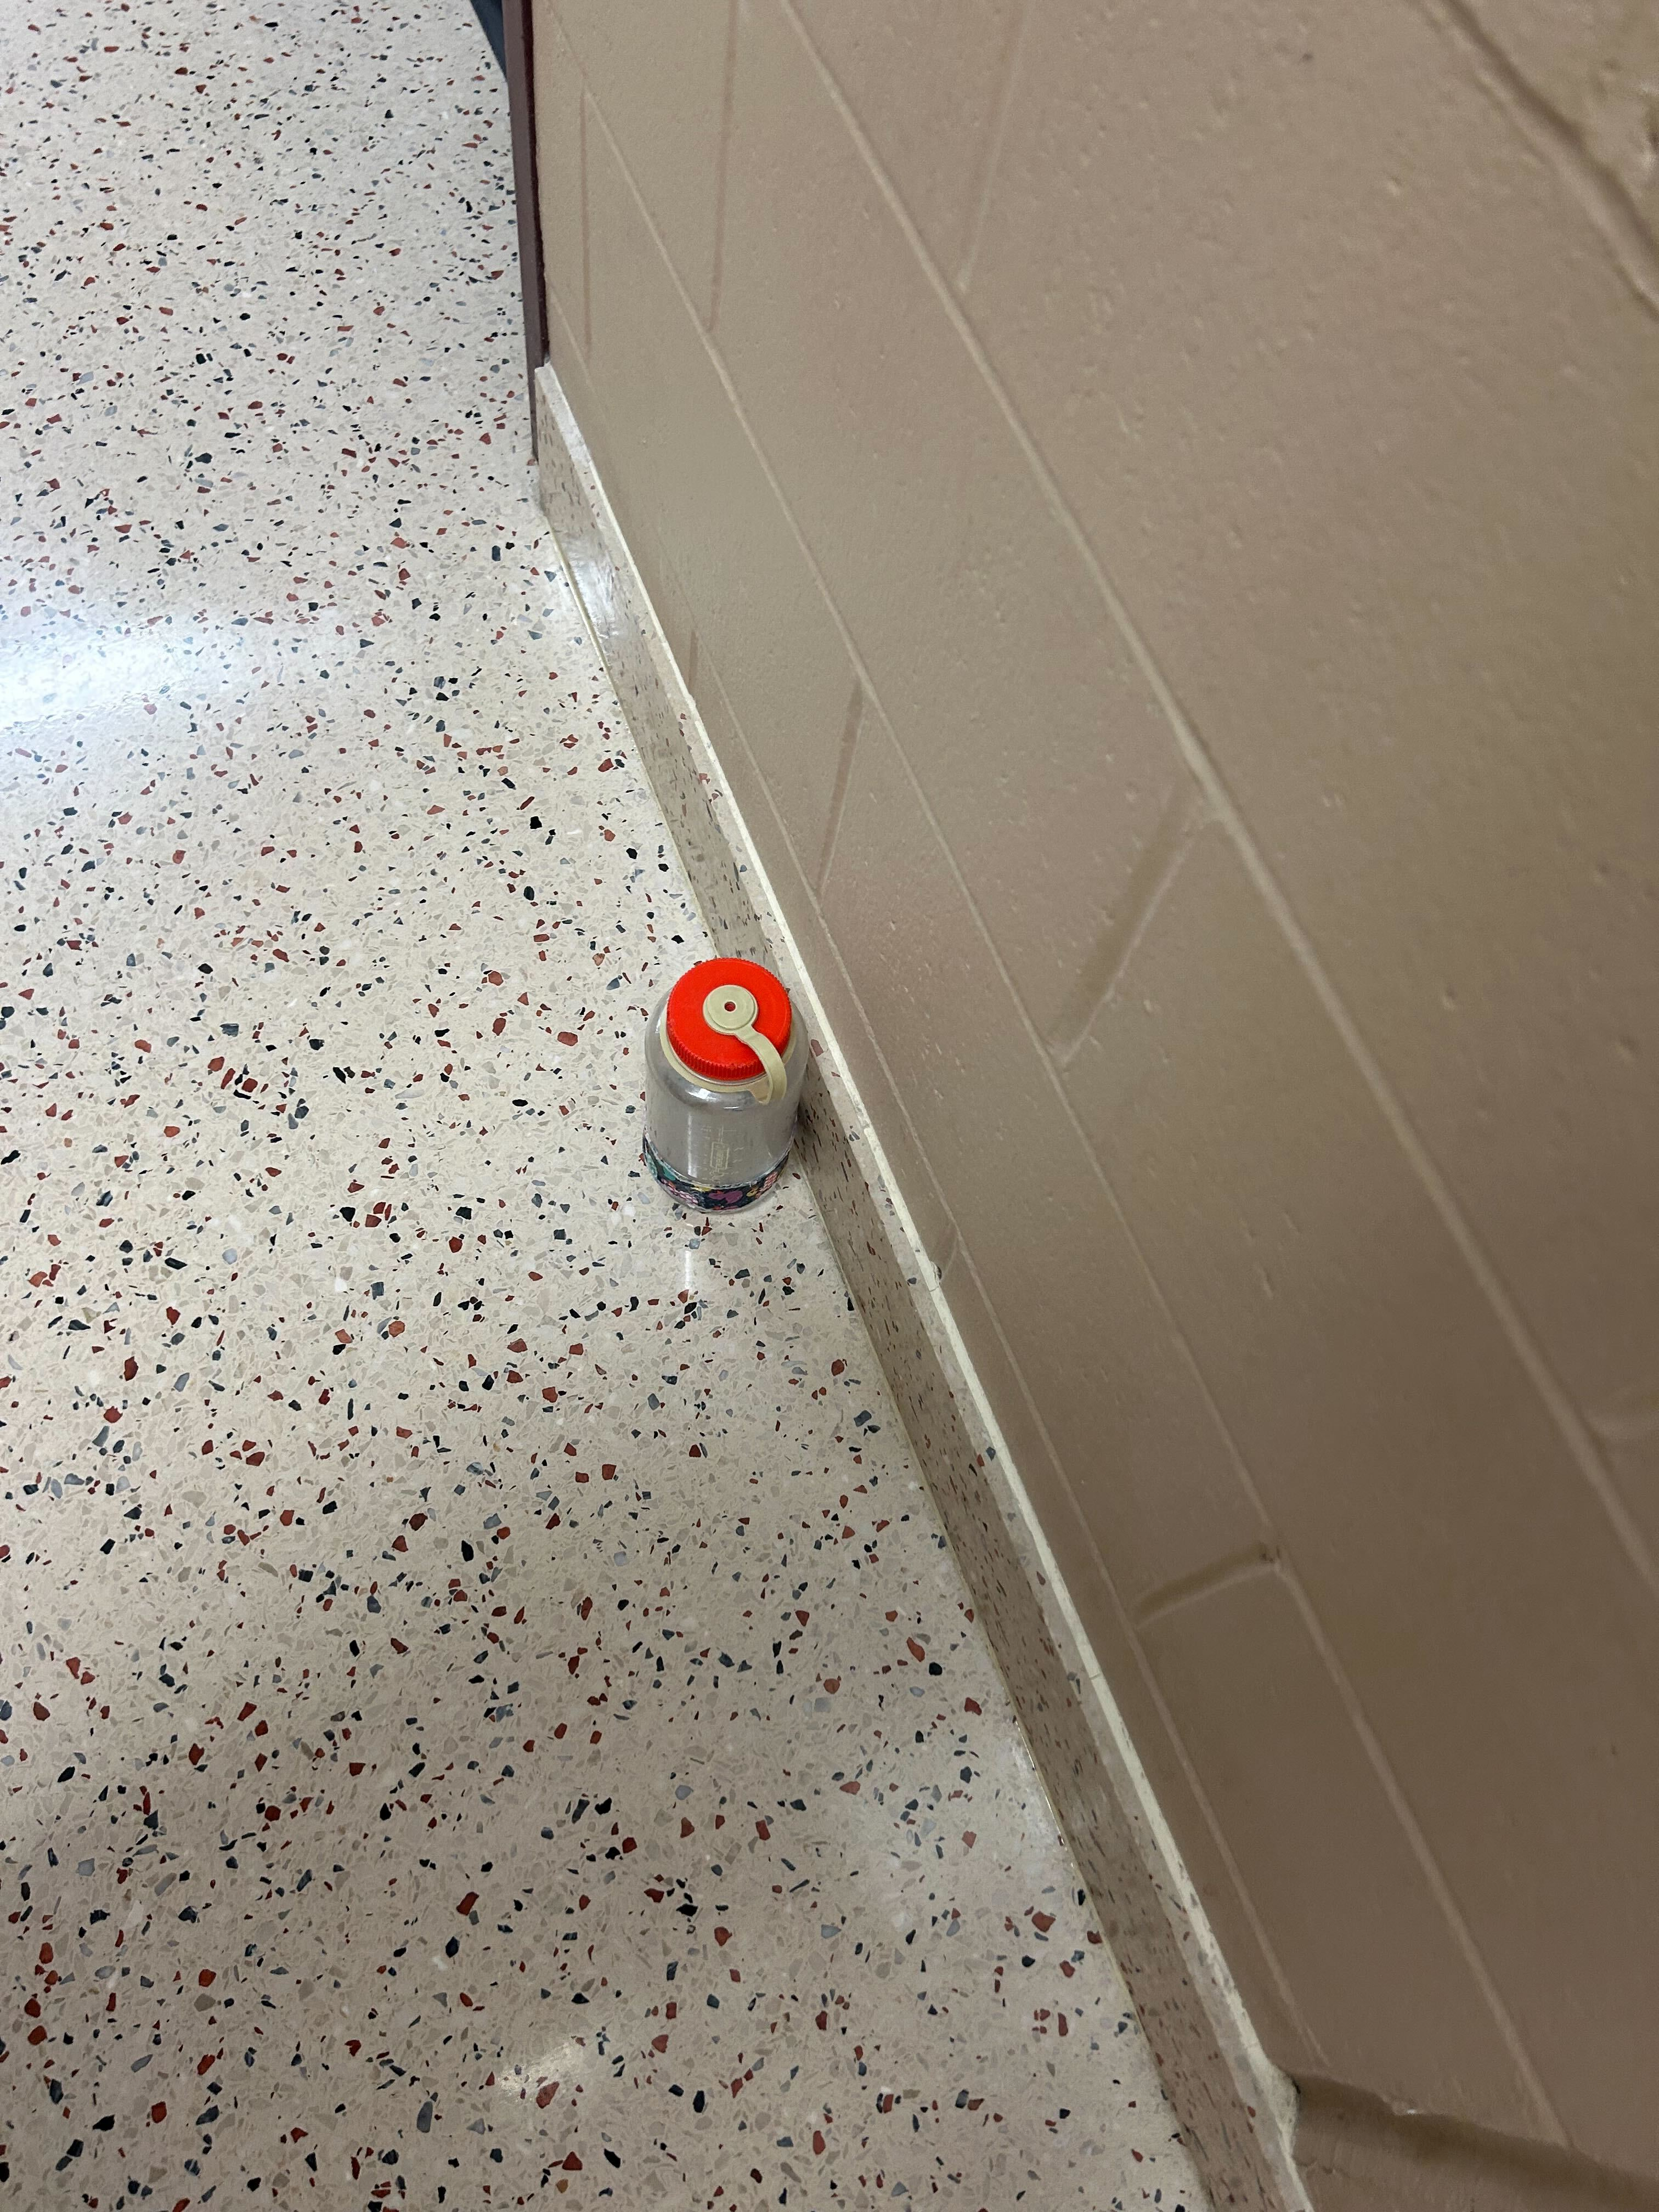bottle: (640, 944, 814, 1221)
